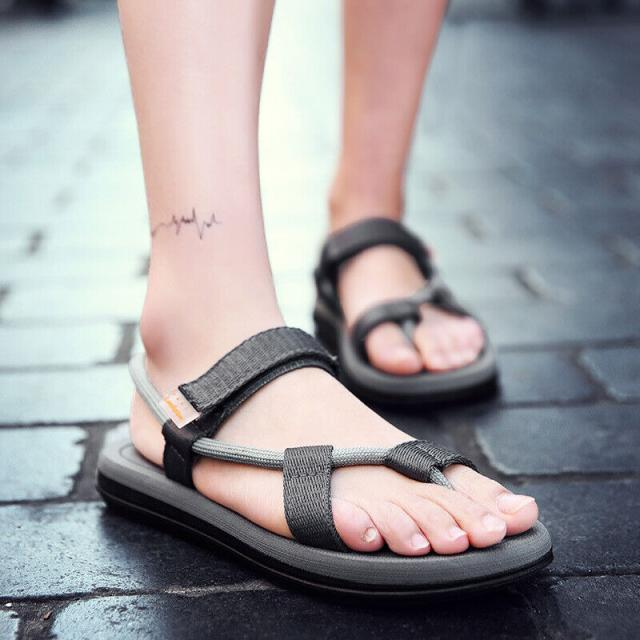Sandals: (97, 293, 557, 605)
